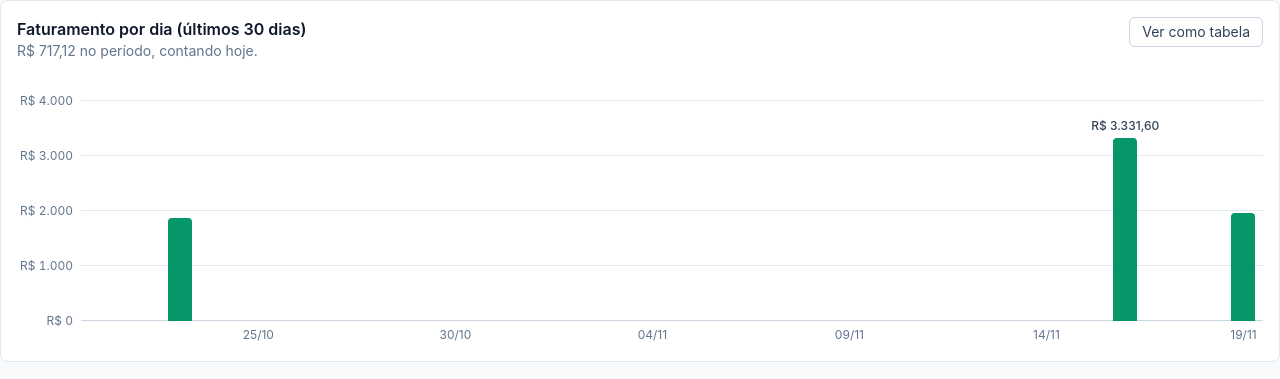
it: DailyRevenueChart — hover › no dia do pico, o rótulo direto some enquanto o tooltip está aberto (o tooltip já mostra o valor)
The image size is (1280, 379).
Later steps or results of the test are not shown.
Expected: the text "R$ 3.331,60" is shown, [1091,118,1159,134]
Hover over the picture with test id "revenue-day" showing "R$ 3.331,60".
mouse_move(1125, 211)  # box [1106,101,1145,321]
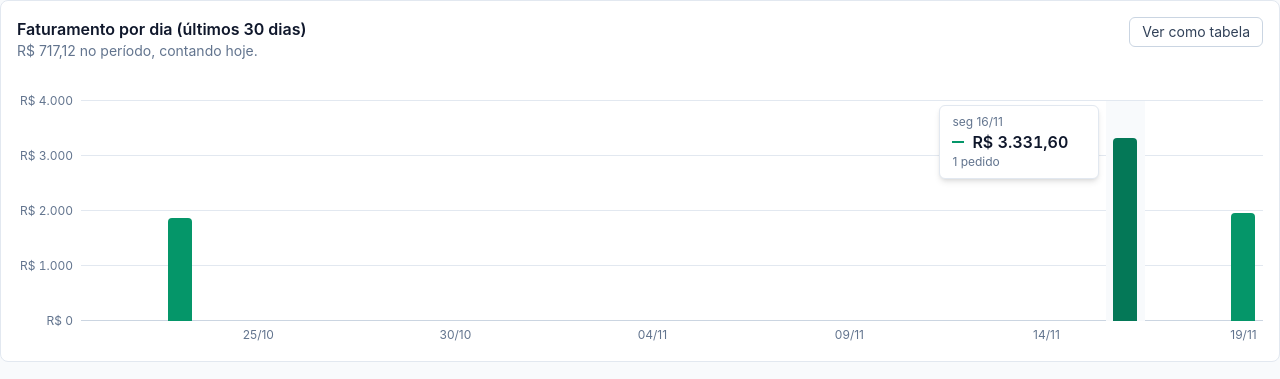
Now the text with test id "revenue-peak-label" is gone
